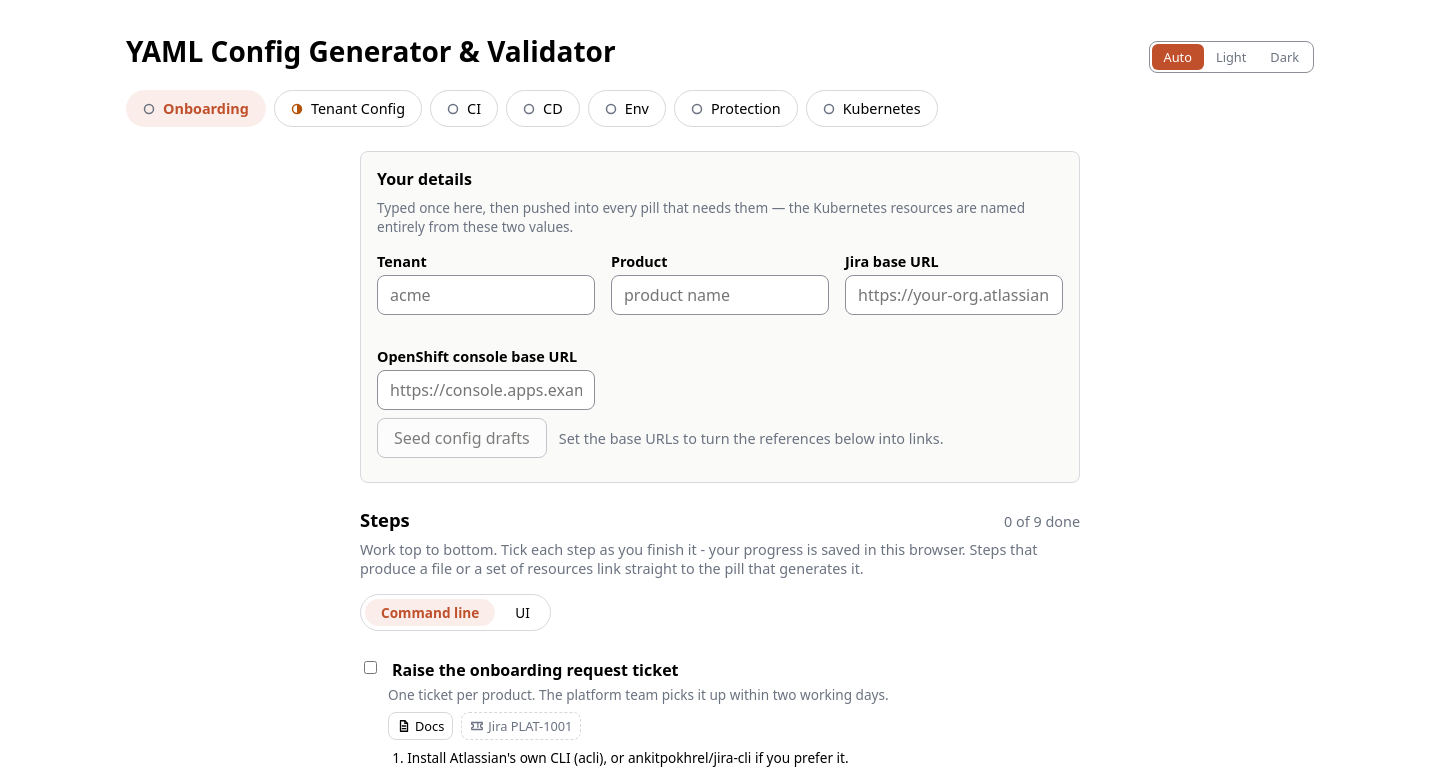
Test: App › switching pills swaps the workspace to that config type’s own fields
The image size is (1440, 773).
Click the button "CI".
click(464, 108)  # box [430,90,498,127]
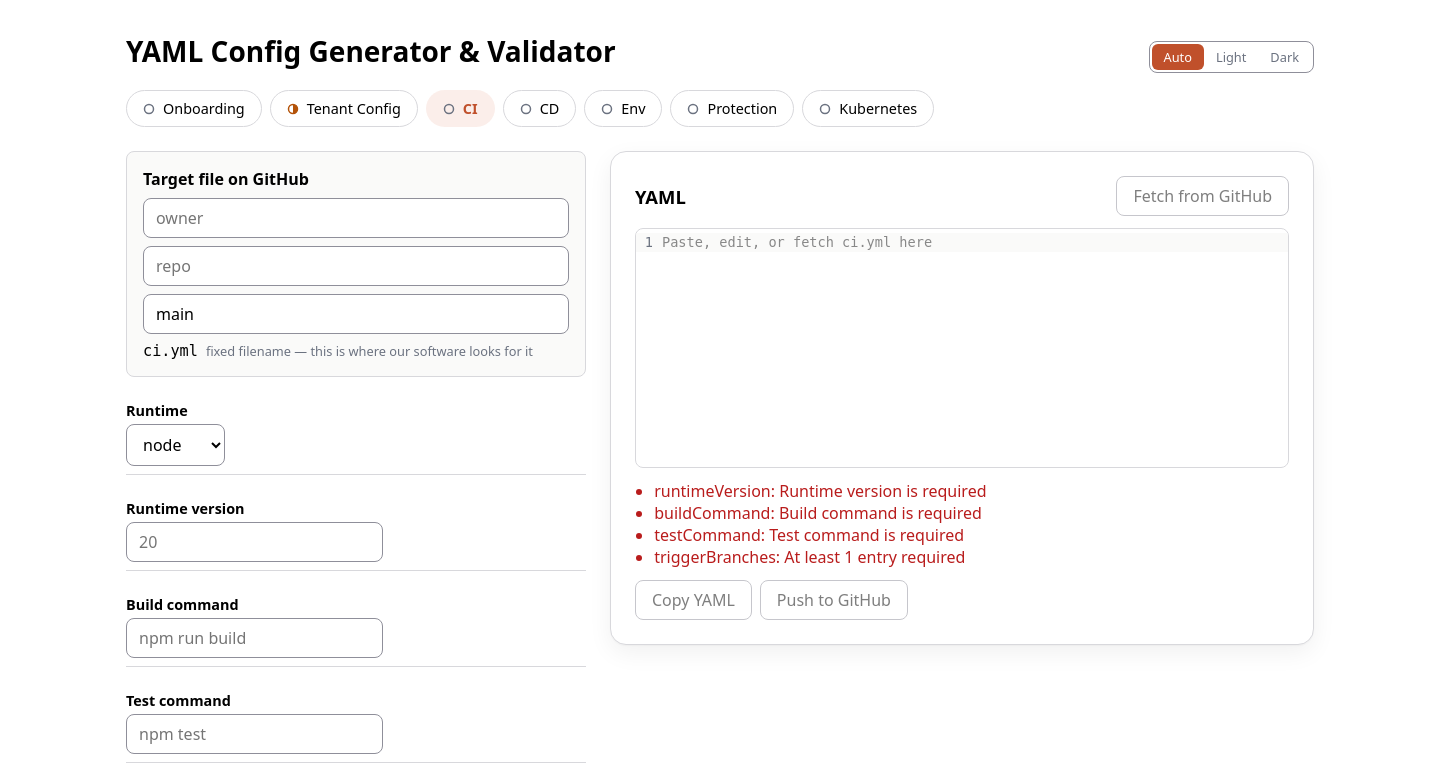
Result: the text "Runtime" is shown at [126,401,188,420]
